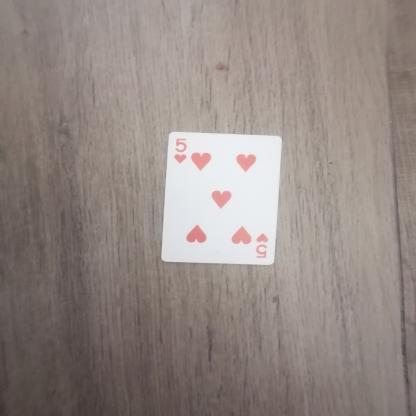5H: (162, 132, 194, 168), (254, 226, 276, 270)
